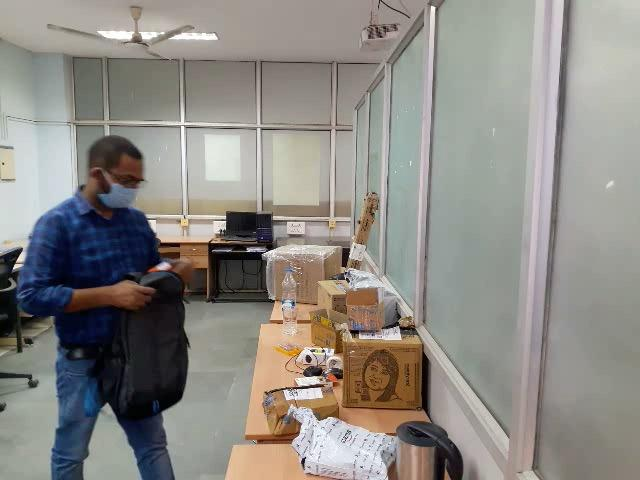shoplifting: (22, 223, 255, 422)
